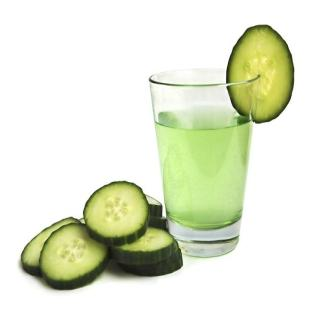Cucumber: (227, 25, 294, 122), (40, 224, 108, 289), (84, 182, 149, 245), (21, 218, 79, 275), (110, 227, 175, 265), (119, 242, 182, 276), (146, 195, 162, 217), (149, 216, 167, 230), (79, 218, 84, 223)
